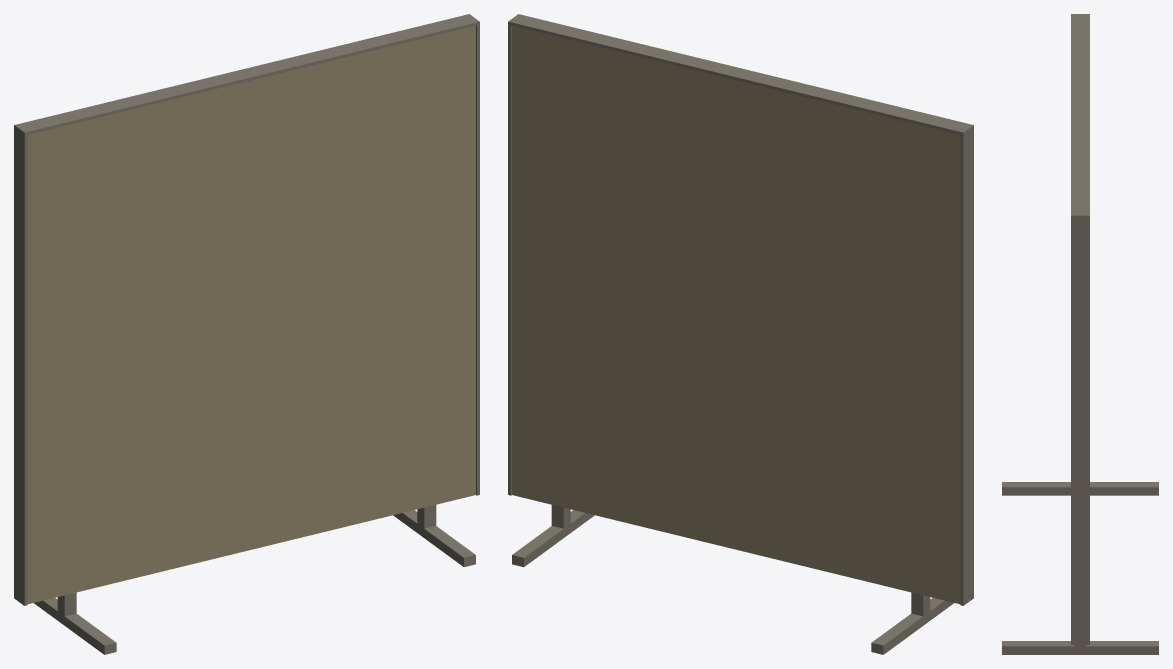
File: PROP_04_OfficeDivider.fbx
The picture shows the model from 3 angles, left to right: view 1: azimuth 30°, elevation 25°; view 2: azimuth 150°, elevation 25°; view 3: azimuth 270°, elevation 25°; orthographic projection. The views are drawn at different scales.
Parts seen in each view (by area): view 1: PROP_04_OfficeDivider; view 2: PROP_04_OfficeDivider; view 3: PROP_04_OfficeDivider.
Boxes of the visible parts, x1,y1,x2,y2 form: PROP_04_OfficeDivider: [14, 14, 479, 654]; PROP_04_OfficeDivider: [508, 14, 973, 654]; PROP_04_OfficeDivider: [1002, 14, 1158, 654].
Bounding box in the file's own units: 1.52 × 1.61 × 0.5.
